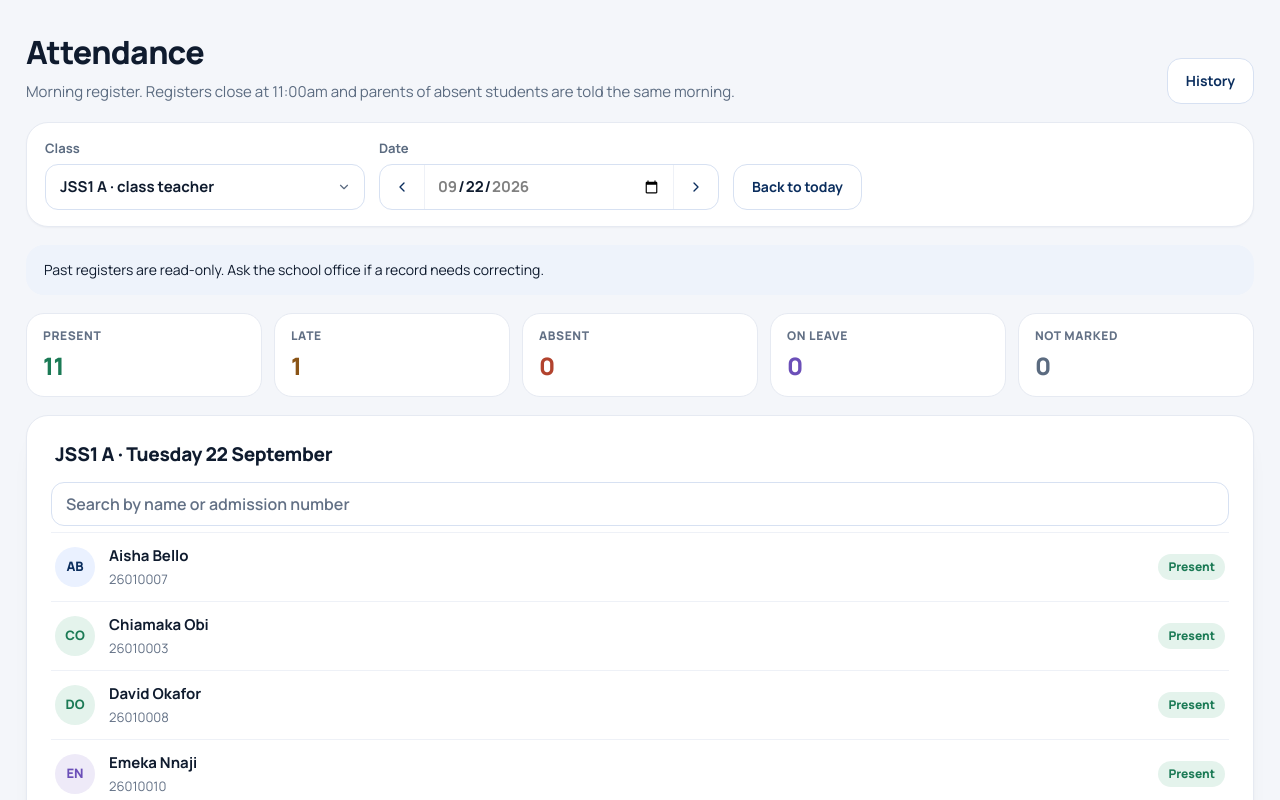
Test: Attendance, other states › snaps a weekend date back to Friday with a toast
Check: the heading "JSS1 A · Tuesday 22 September" is shown, box [55,441,332,467]
Type "2026-09-20" into the date field labelled "Date" at {"x": 549, "y": 187}, box [424,165,674,209]
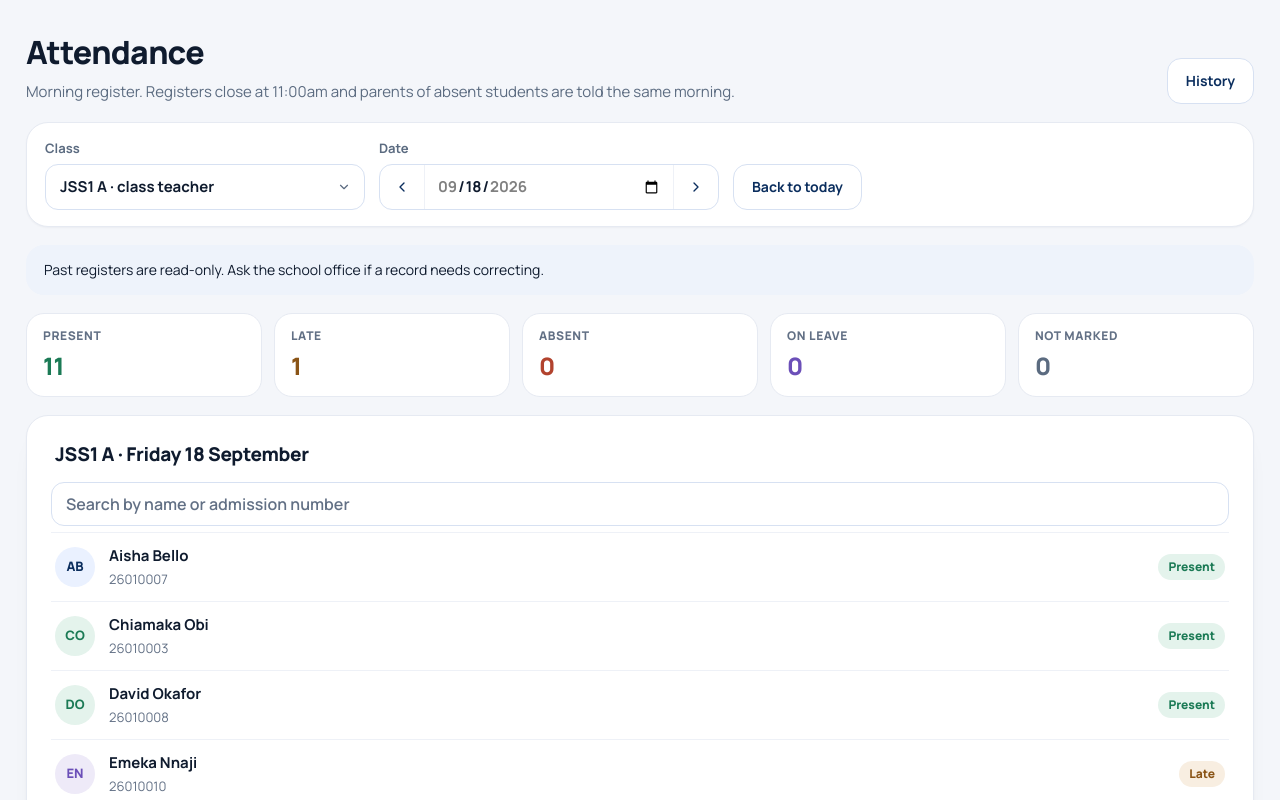
Check: the heading "JSS1 A · Friday 18 September" is shown, box [55,441,309,467]
